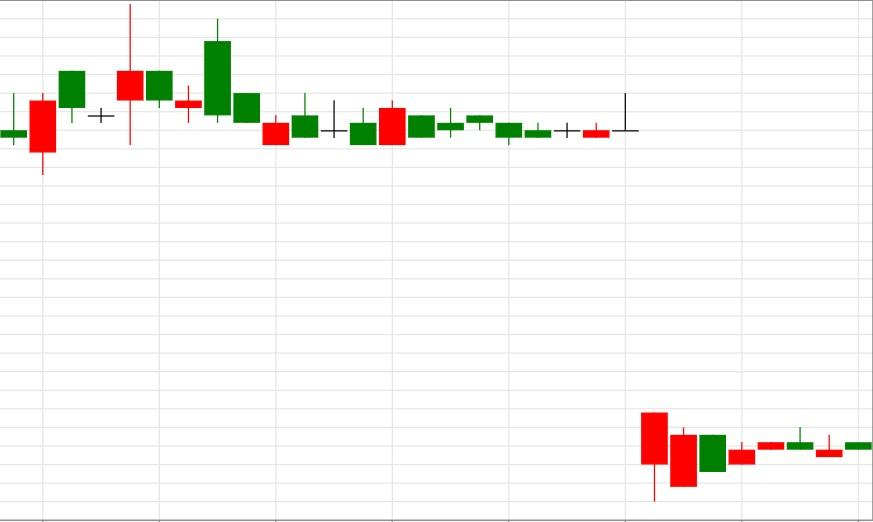bullish_engulfing_rise: (203, 18, 407, 146)
